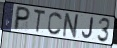3: (97, 17, 111, 44)
C: (47, 11, 63, 36)
J: (81, 16, 95, 40)
N: (61, 12, 81, 40)
P: (12, 6, 32, 32)
T: (33, 8, 46, 34)
